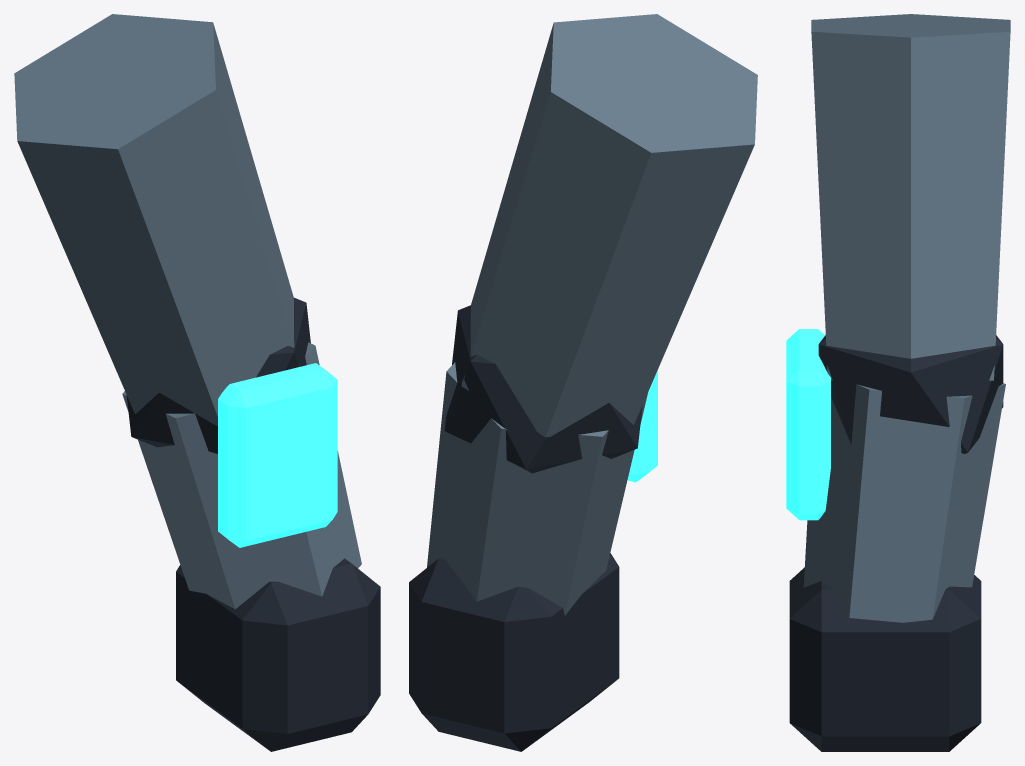
File: SM_NPC_ArmL_003_Robot.glb
3 views of the same model, side by side, from view 1: azimuth 30°, elevation 25°; view 2: azimuth 150°, elevation 25°; view 3: azimuth 270°, elevation 25° (orthographic). The views are drawn at different scales.
Parts seen in each view (by area): view 1: SM_NPC_ArmL_003_Robot; view 2: SM_NPC_ArmL_003_Robot; view 3: SM_NPC_ArmL_003_Robot.
Part boxes in pixels (box(x1,y1,x2,y2)): SM_NPC_ArmL_003_Robot: box(14, 14, 380, 751); SM_NPC_ArmL_003_Robot: box(409, 14, 757, 751); SM_NPC_ArmL_003_Robot: box(786, 14, 1010, 751).
Bounding box in the file's own units: 0.275 × 0.5794 × 0.1754.
